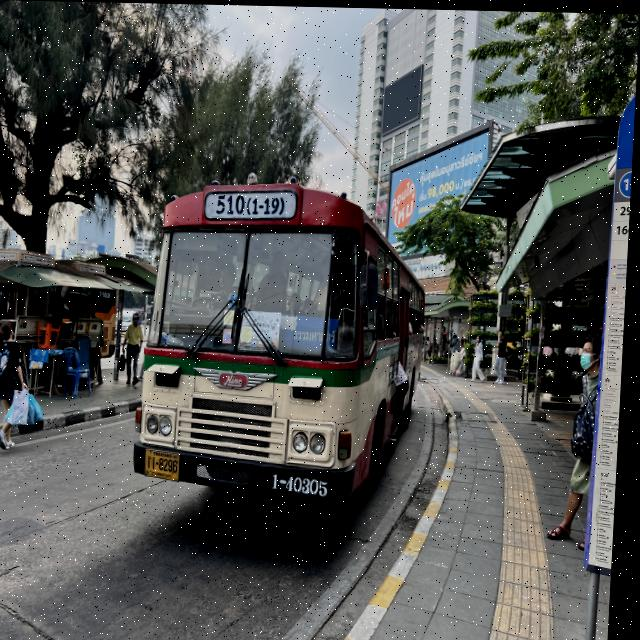BMTA-bus: (134, 180, 434, 509)
Bus-Line-Number: (207, 190, 301, 220)
Destination-Sign-Normal: (280, 313, 343, 350)
